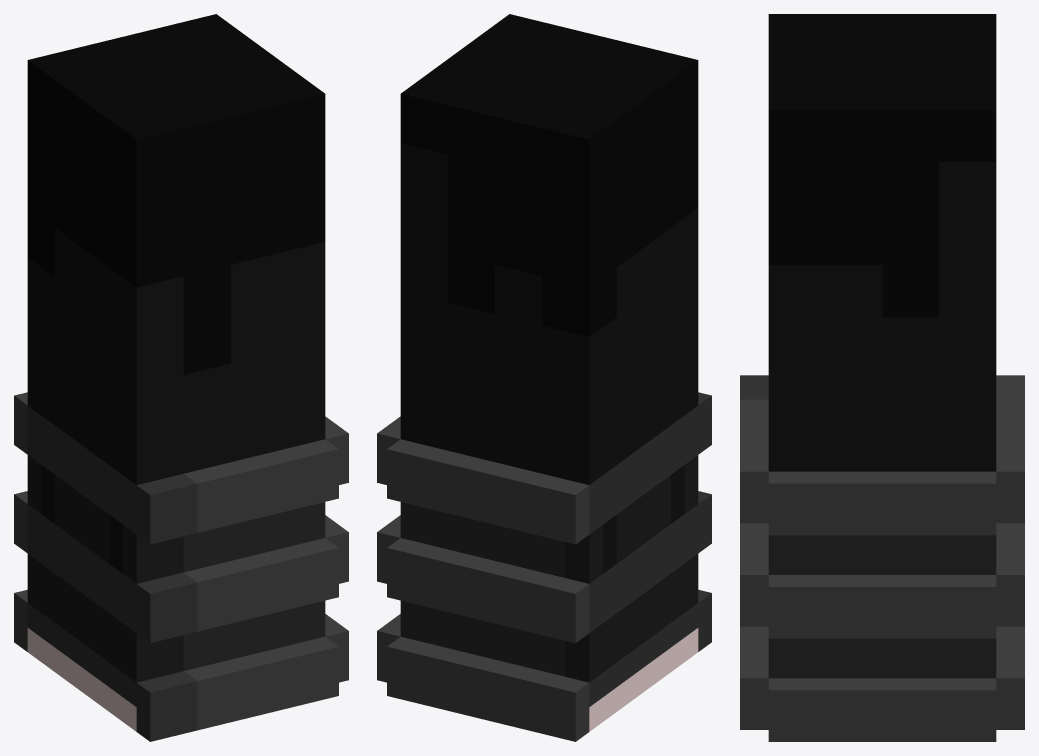
File: preLeftArm.obj
3 renders of one model, left to right at view 1: azimuth 30°, elevation 25°; view 2: azimuth 150°, elevation 25°; view 3: azimuth 270°, elevation 25°, orthographic. The views are drawn at different scales.
Bounding box in the file's own units: 3.6 × 9.6 × 4.
Materials: 1 (1 with a texture image).
